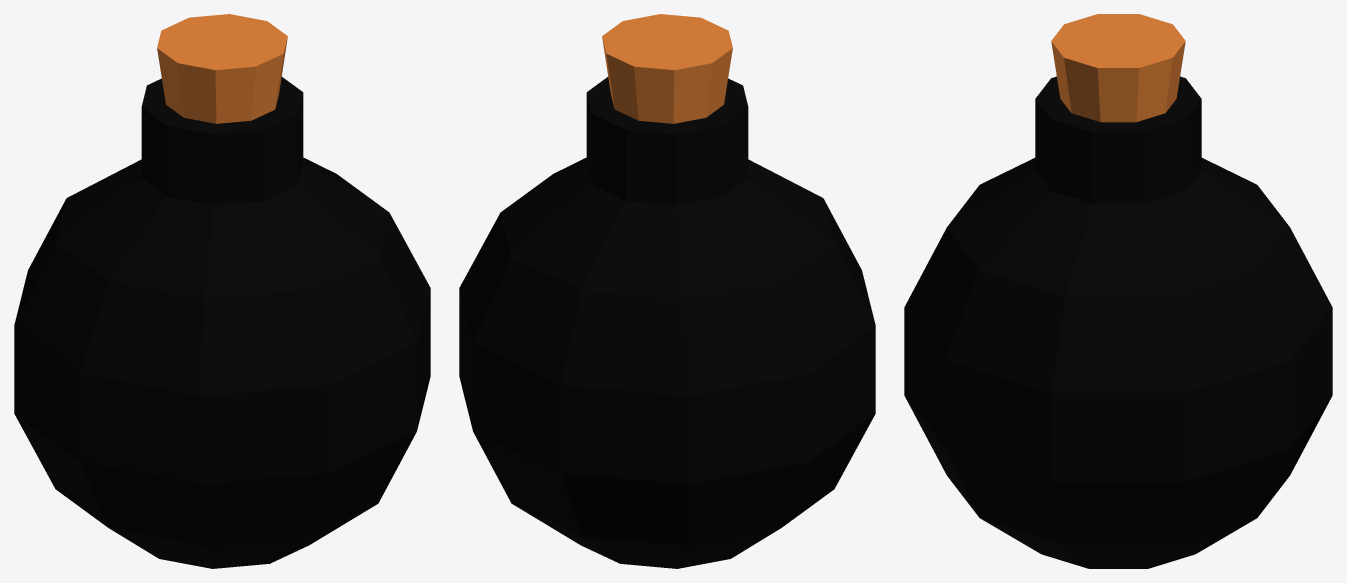
File: Round Potion_Filled.fbx
3 views of the same model, side by side, from view 1: azimuth 30°, elevation 25°; view 2: azimuth 150°, elevation 25°; view 3: azimuth 270°, elevation 25° (orthographic).
Visible parts, largest first — view 1: potion, penutup; view 2: potion, penutup; view 3: potion, penutup.
Part boxes in pixels (x1=…): potion: x1=14, y1=77, x2=430, y2=568; penutup: x1=157, y1=14, x2=287, y2=123; potion: x1=459, y1=77, x2=875, y2=568; penutup: x1=602, y1=14, x2=732, y2=123; potion: x1=904, y1=76, x2=1332, y2=568; penutup: x1=1051, y1=14, x2=1185, y2=122.
Bounding box in the file's own units: 49.46 × 65.65 × 52.01.
